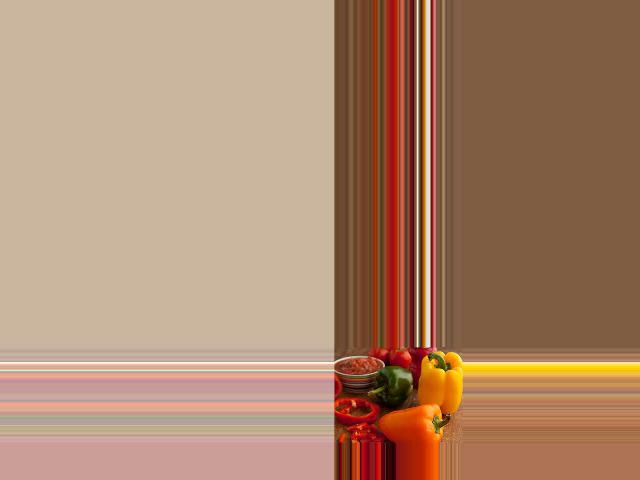bell_pepper: (416, 352, 462, 402)
